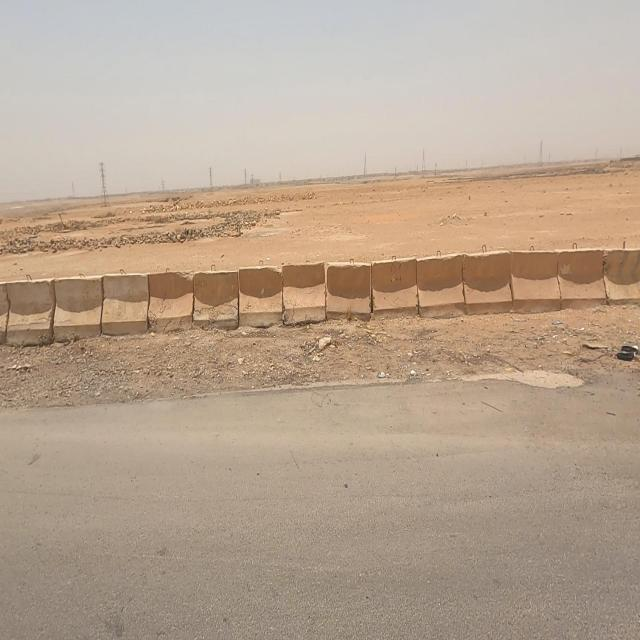debris: (585, 304, 640, 394)
